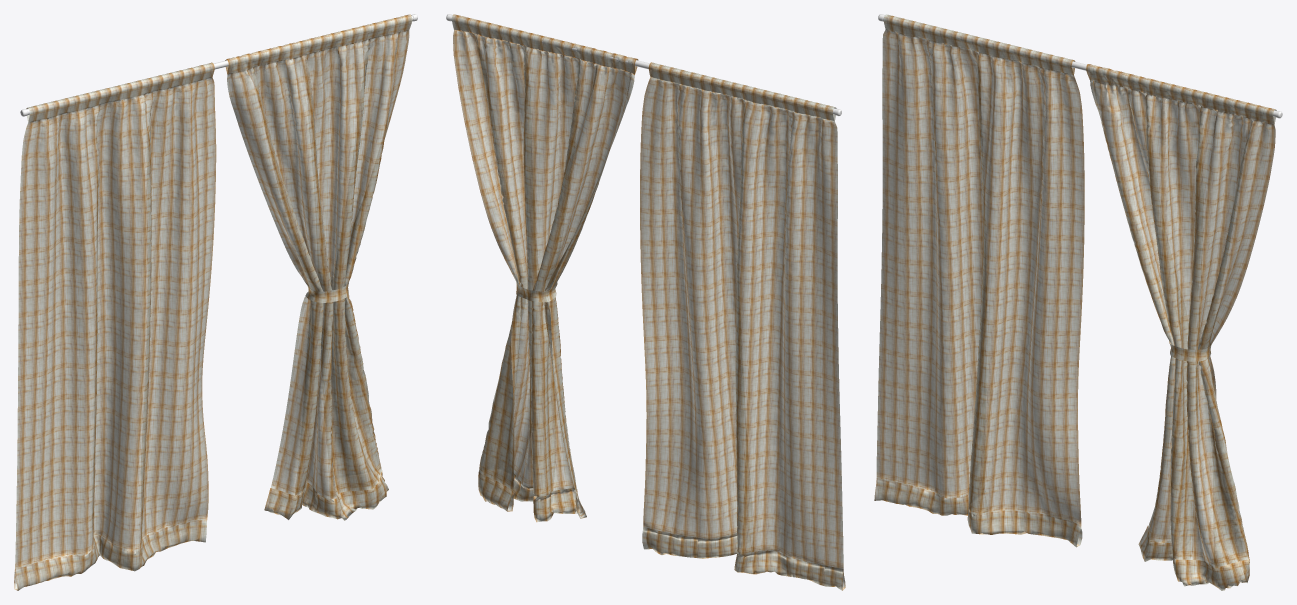
File: MEGA_PACK_Curtain__curtain-203701_yellow.glb
3 renders of one model, left to right at view 1: azimuth 30°, elevation 25°; view 2: azimuth 150°, elevation 25°; view 3: azimuth 330°, elevation 25°, orthographic. The views are drawn at different scales.
Parts seen in each view (by area): view 1: curtain-203701_yellow; view 2: curtain-203701_yellow; view 3: curtain-203701_yellow.
Part boxes in pixels (x1,y1,x2,y2): curtain-203701_yellow: (14, 14, 417, 590); curtain-203701_yellow: (446, 14, 845, 590); curtain-203701_yellow: (874, 14, 1282, 590).
Size of the model in its own units: 1.3 by 1.5 by 0.1523.
Materials: 1 (1 with a texture image).
